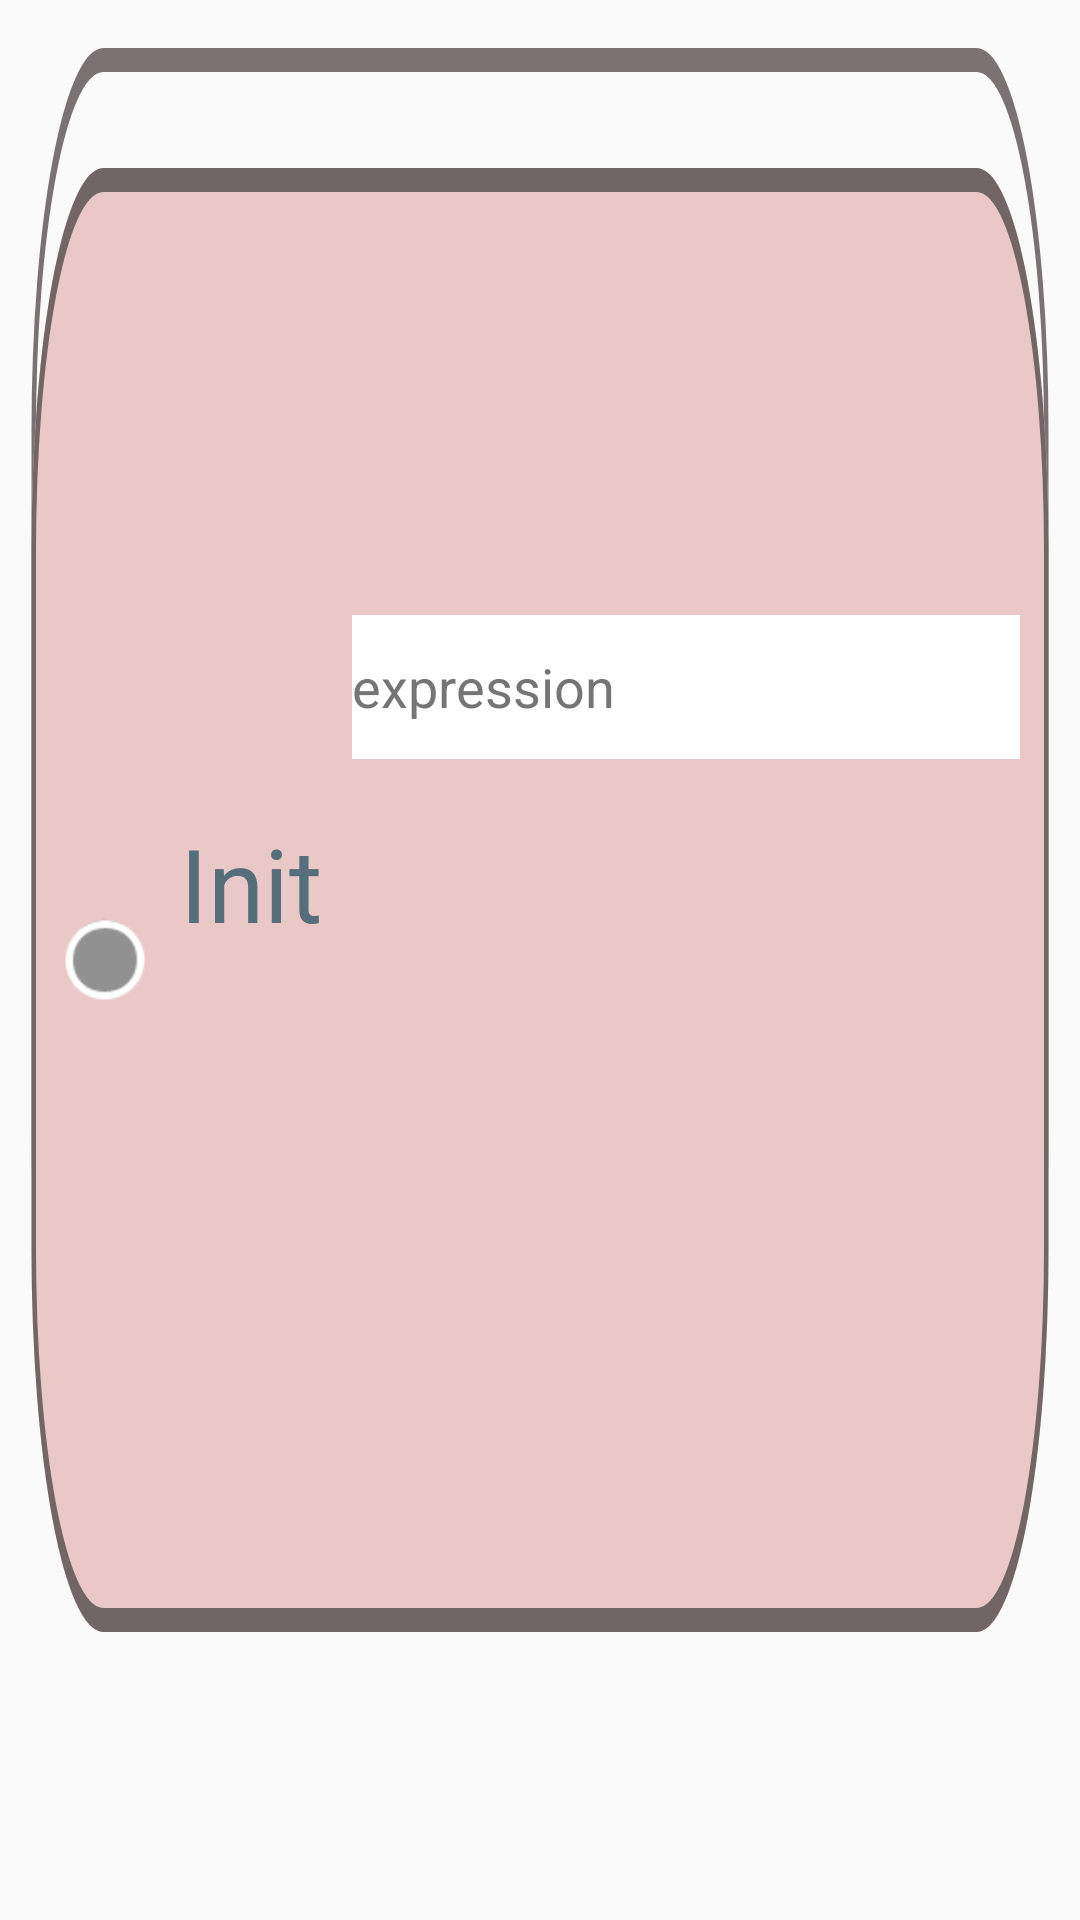

Icon bounding boxes for this 1080px×1920px phone screenshot, format (x1, y1, x2, y2):
presence invisible: (66, 921, 144, 999)
